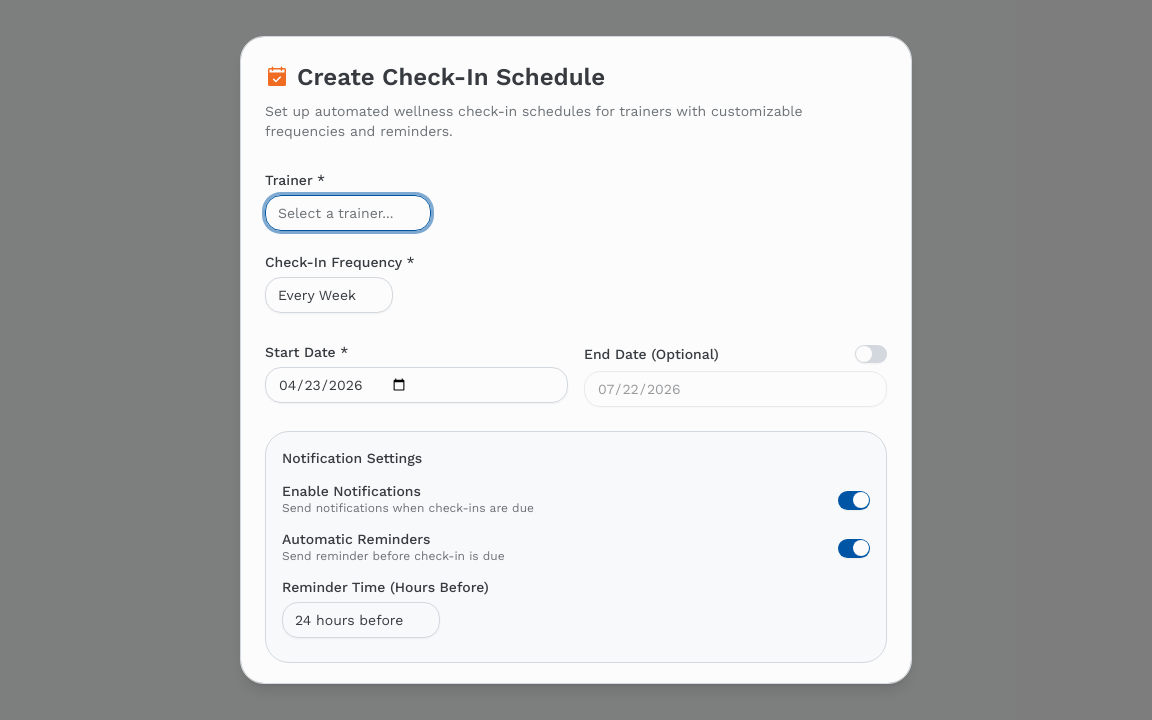
CheckInScheduleDialog › hides reminder hours when auto reminders are disabled
What coordinates should you click on to do the following:
click the switch named "automatic reminders" in the row of "Send reminder before check-in is due"
I would click on:
 (854, 548)
Its box is [838,539,870,558].
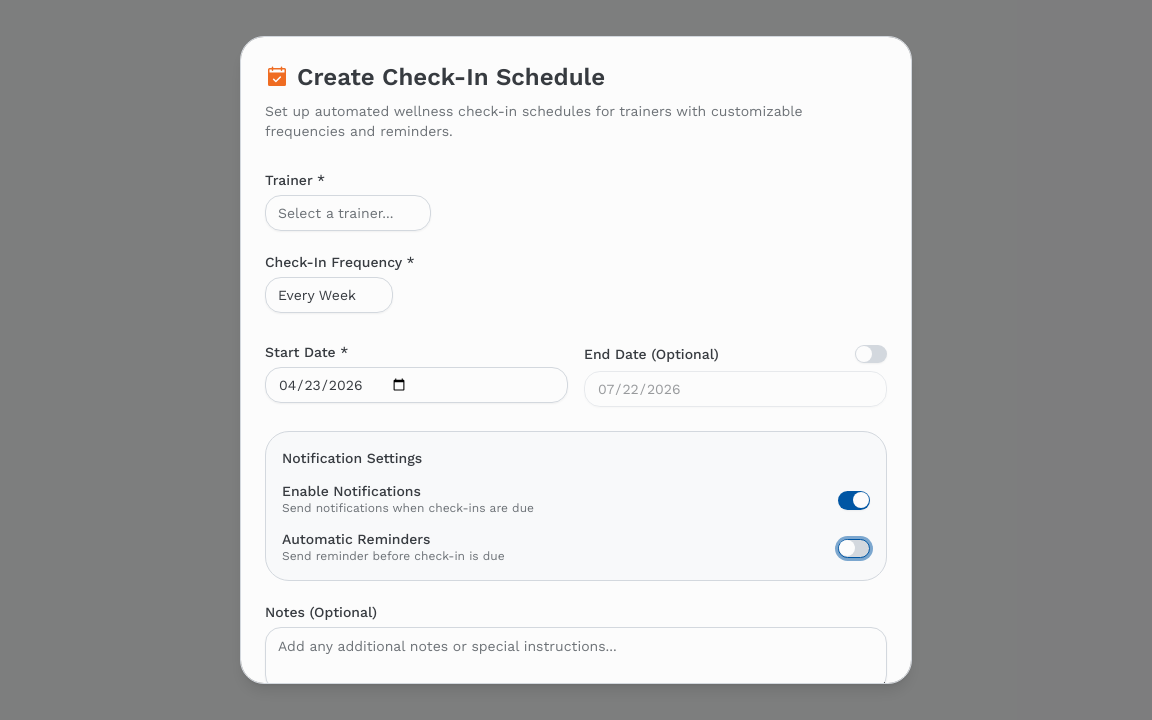
Expected: the label labelled "Reminder Time" is gone
